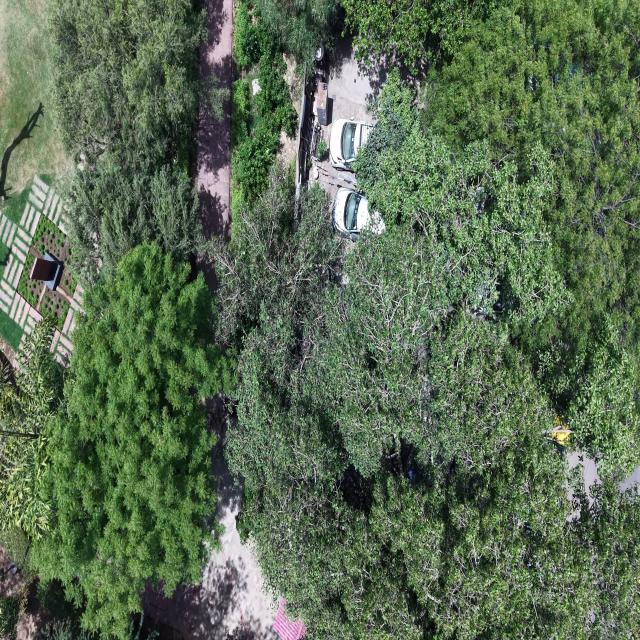DRY_AREA: (143, 398, 277, 639), (144, 408, 277, 639), (0, 0, 70, 361), (0, 0, 70, 197), (322, 37, 386, 144), (198, 100, 230, 238)
VEGETATION_TREE: (0, 0, 639, 639), (218, 74, 639, 639), (0, 0, 232, 637), (418, 0, 639, 472), (420, 0, 639, 472), (0, 244, 232, 637), (33, 244, 231, 638), (355, 74, 565, 324), (50, 0, 224, 282), (216, 163, 341, 375), (50, 0, 205, 166), (70, 156, 204, 283), (0, 2, 70, 222), (0, 320, 62, 538), (232, 3, 297, 202), (560, 327, 639, 477), (341, 0, 502, 71), (569, 477, 639, 638), (232, 57, 297, 201), (234, 0, 338, 68), (17, 216, 76, 331), (256, 0, 339, 68), (35, 578, 99, 639), (232, 119, 279, 202), (254, 50, 297, 138), (37, 580, 95, 637), (0, 523, 35, 584), (234, 2, 261, 70), (33, 216, 72, 263), (0, 175, 34, 224), (231, 79, 252, 149), (17, 253, 42, 308), (0, 590, 26, 639), (40, 289, 70, 331), (43, 619, 95, 639), (43, 619, 92, 639), (0, 310, 23, 351), (0, 240, 10, 277), (0, 240, 9, 274), (318, 138, 328, 160)
